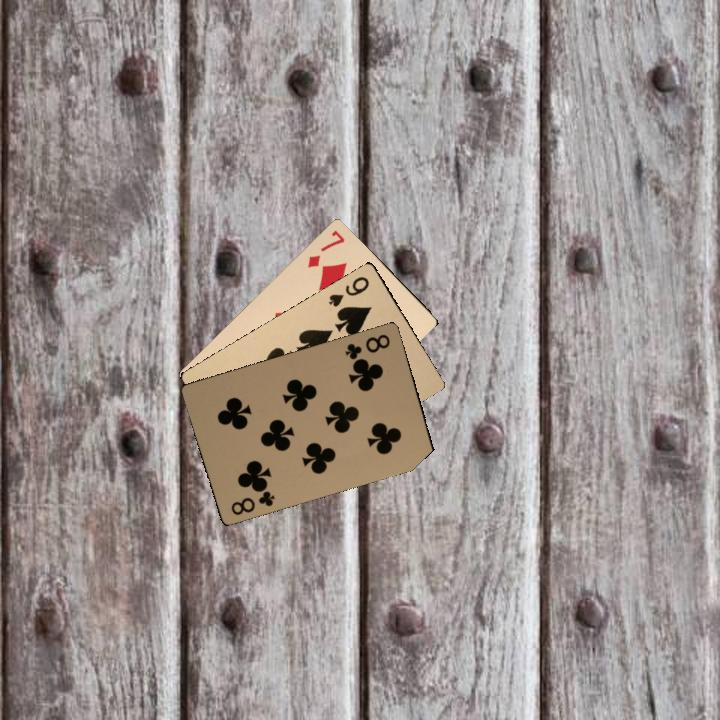7d: (303, 226, 347, 270)
8c: (227, 482, 277, 518), (341, 330, 392, 363)
9s: (325, 272, 372, 310)
